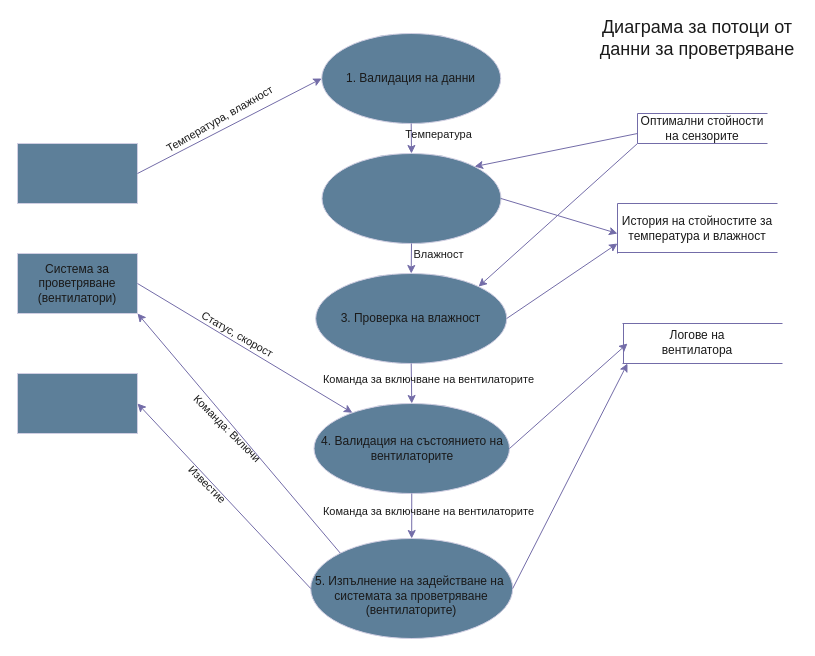
Some shapes in this 815 by 656 pixel diagram are drawn without their labels. Here are the shapes that lost their labels. From the top down, the box of each, then its label:
(16, 142, 138, 204): Сензори
(321, 152, 501, 244): 2. Проверка на температурата
(16, 372, 138, 434): Потребител
